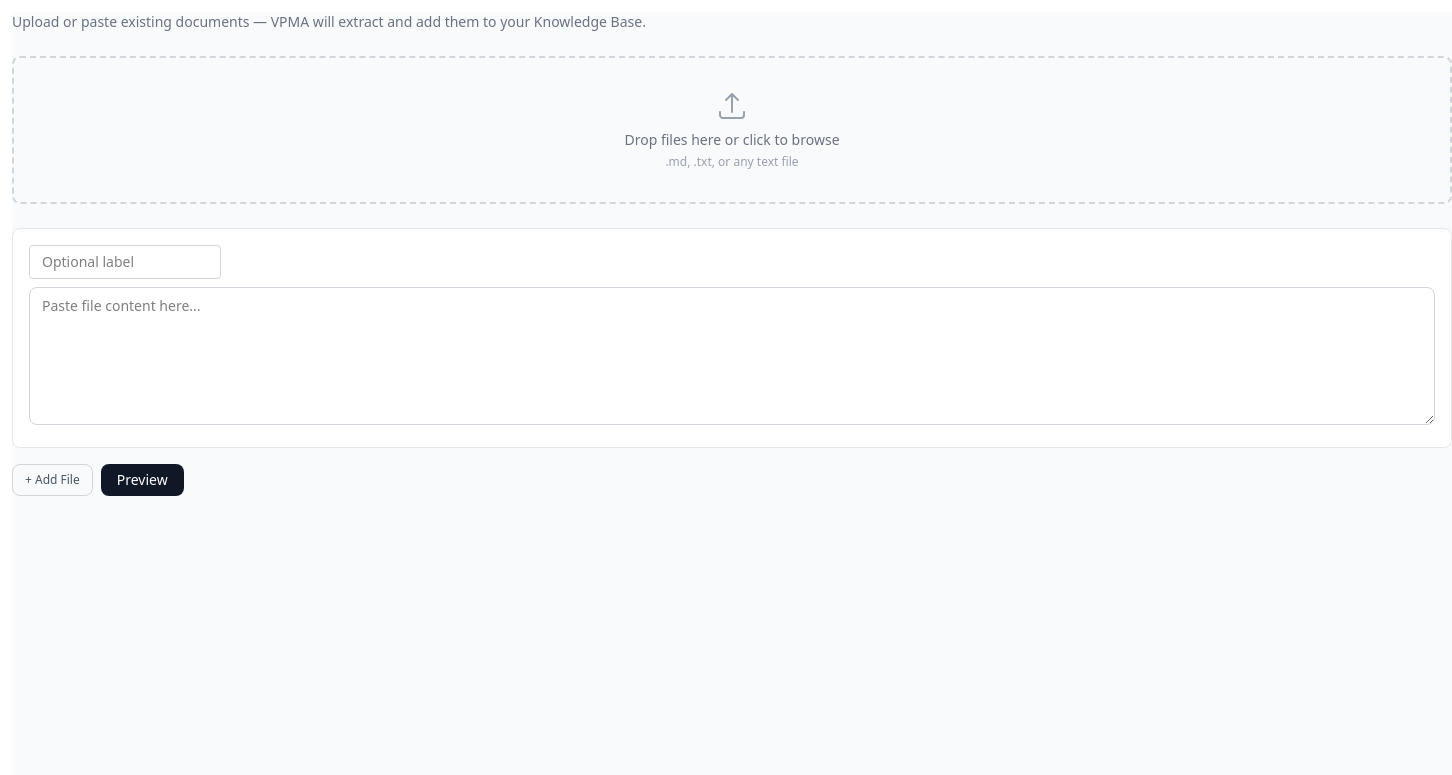
it: Intake › displays proposed sections after preview
Type "Notes content." into the text box with placeholder "Paste file content here...". click: (732, 356)
box: top-left (29, 287), bottom-right (1435, 425)
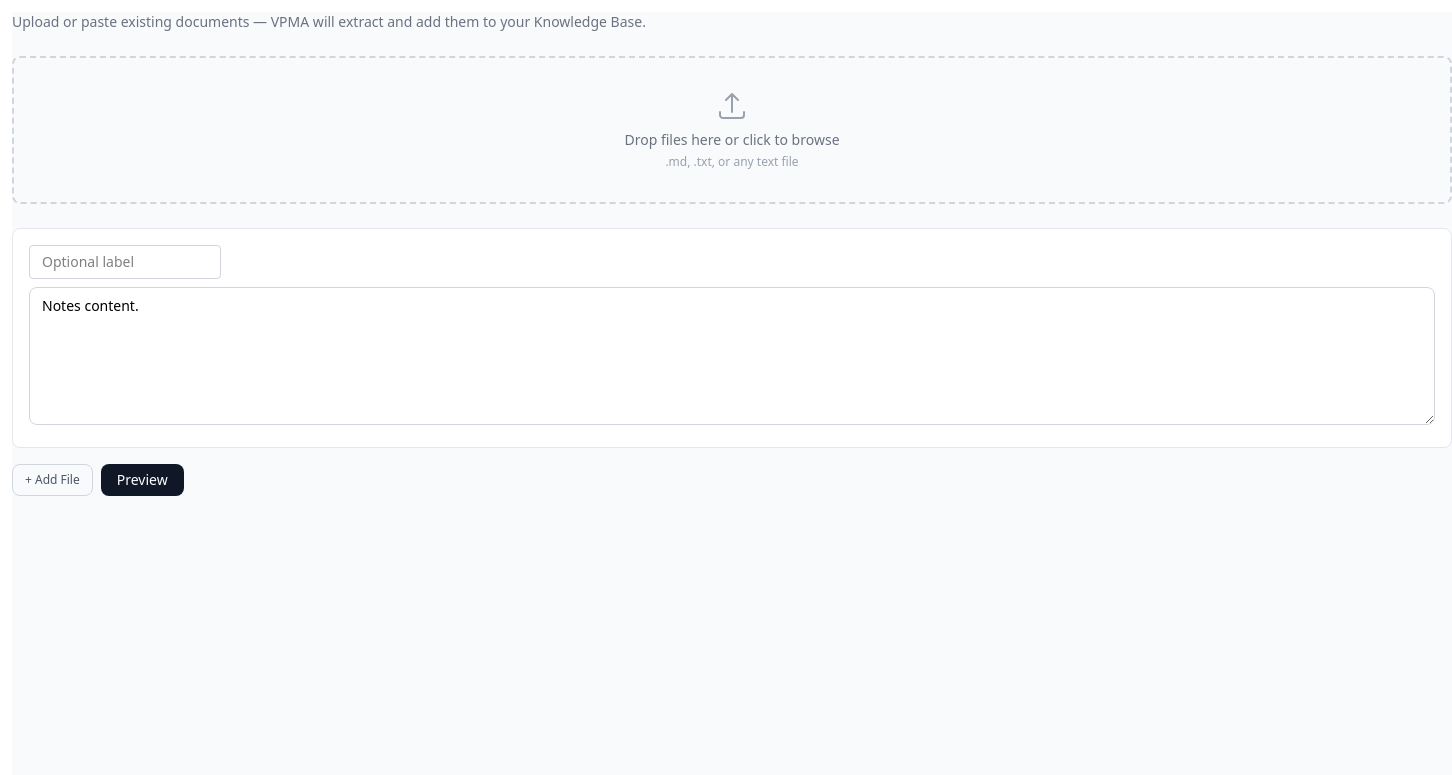
Click the button "Preview". click: (142, 480)
box: top-left (101, 464), bottom-right (184, 496)
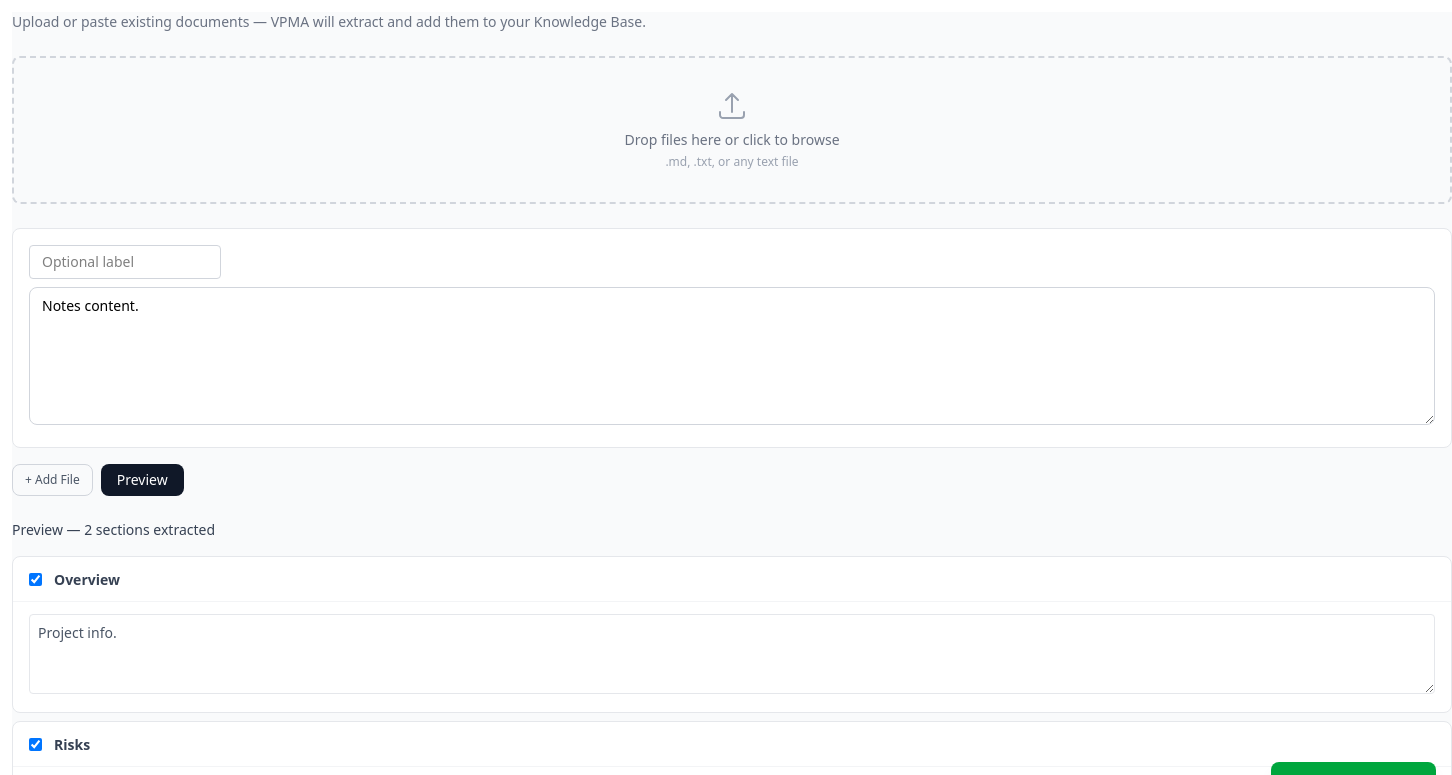
Expected: the text "Overview" is shown, top-left (54, 570), bottom-right (120, 589)
Expected: the text "Risks" is shown, top-left (54, 735), bottom-right (90, 754)
Expected: the text box "Project info." below "Overview" is shown, top-left (29, 614), bottom-right (1435, 694)
